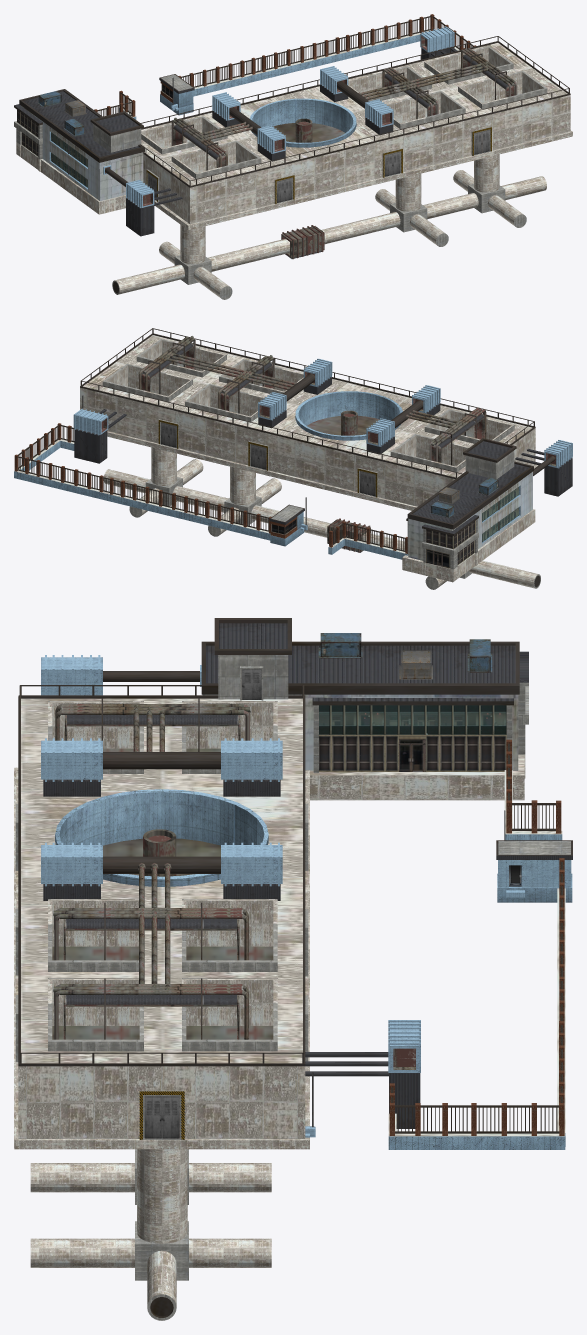
3 renders of one model, top to bottom at view 1: azimuth 30°, elevation 25°; view 2: azimuth 150°, elevation 25°; view 3: azimuth 270°, elevation 25°, orthographic. The views are drawn at different scales.
Visible parts, largest first — view 1: Cube_0, Cylinder_3, Siding_1, Gate_2; view 2: Cube_0, Siding_1, Gate_2, Cylinder_3; view 3: Cube_0, Siding_1, Gate_2, Cylinder_3.
Boxes of the visible parts, left/top/right/bottom form: Cube_0: left=103, top=36, right=572, bottom=236; Cylinder_3: left=112, top=154, right=546, bottom=299; Siding_1: left=14, top=89, right=144, bottom=214; Gate_2: left=94, top=14, right=476, bottom=119; Cube_0: left=80, top=328, right=572, bottom=510; Siding_1: left=402, top=438, right=535, bottom=582; Gate_2: left=14, top=395, right=407, bottom=559; Cylinder_3: left=103, top=447, right=540, bottom=589; Cube_0: left=14, top=655, right=309, bottom=1149; Siding_1: left=201, top=618, right=528, bottom=800; Gate_2: left=305, top=739, right=572, bottom=1149; Cylinder_3: left=30, top=1149, right=271, bottom=1320.
Bounding box in the file's own units: 68.16 × 22.63 × 38.03.
Materials: 1 (1 with a texture image).
